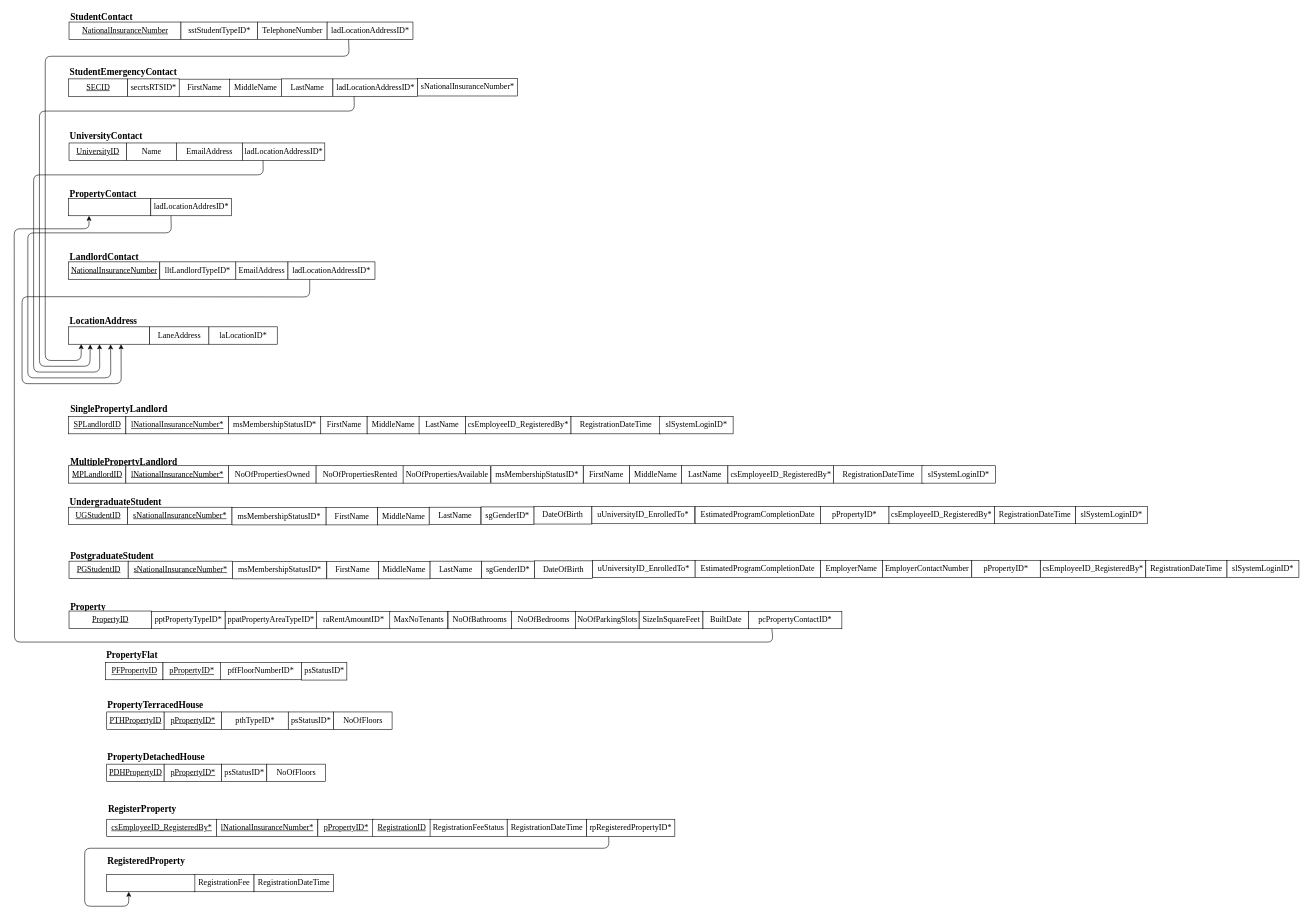
Image size: 1309x921. Some labels were removed from this diagram. The shapes that lost their labels are listed below. From the top down, each one's centre as x and y in pixels, then its label:
the point at 109,207: PropertyContactID
the point at 109,335: LocationAddressID
the point at 150,883: RegistrateredPropertyID
